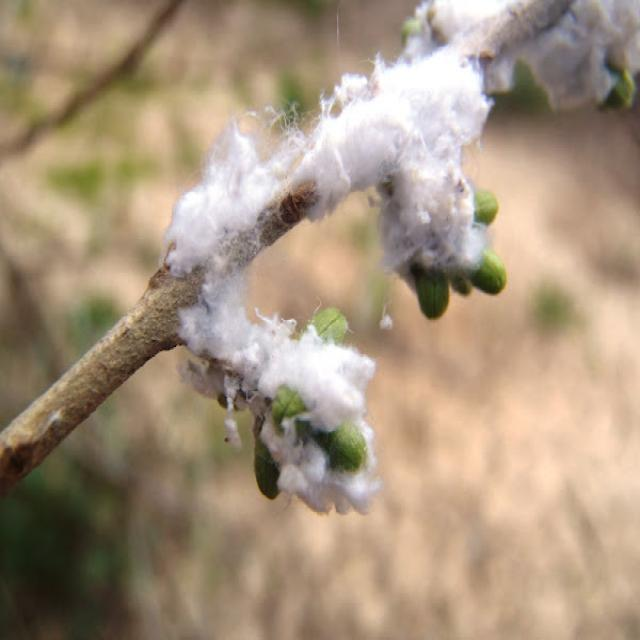Psyllid: (316, 49, 506, 318), (182, 284, 380, 512), (162, 104, 316, 278)
